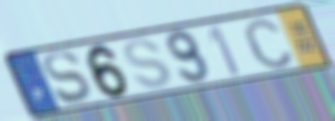1: (206, 23, 242, 78)
6: (84, 42, 133, 100)
9: (164, 28, 213, 86)
C: (240, 16, 296, 71)
S: (41, 50, 94, 107), (120, 38, 174, 91)
